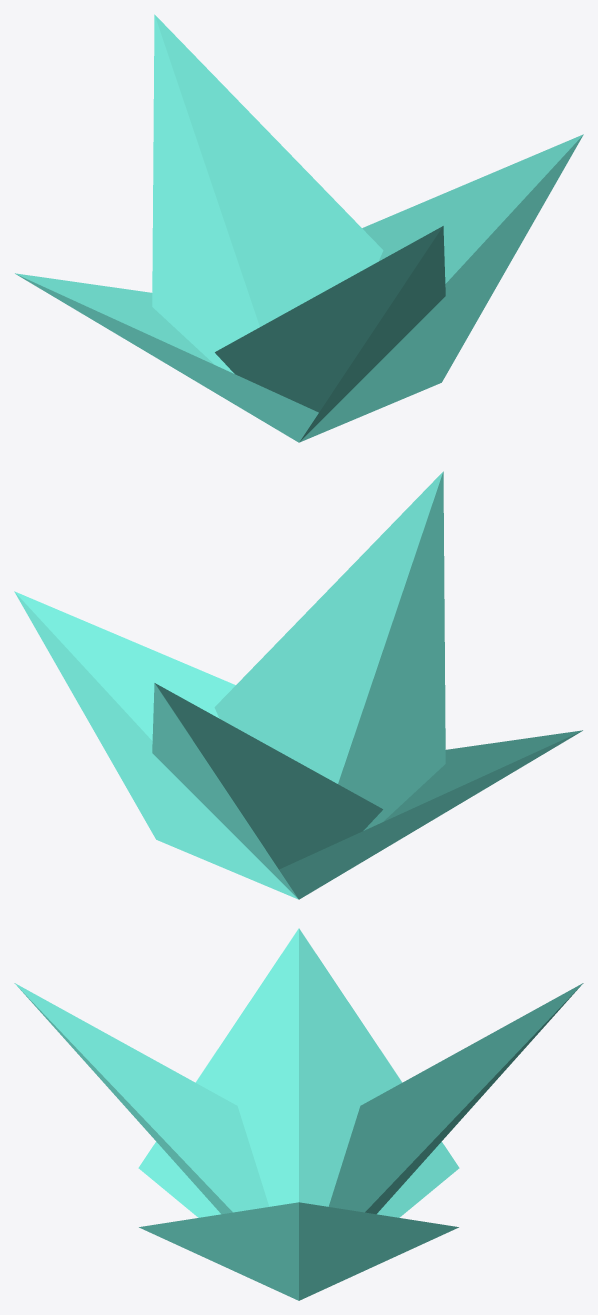
Rendered from plant_bushSmall.glb.
3 views of the same model, one above another, from view 1: azimuth 30°, elevation 25°; view 2: azimuth 150°, elevation 25°; view 3: azimuth 270°, elevation 25° (orthographic).
Parts seen in each view (by area): view 1: plant_bushSmall; view 2: plant_bushSmall; view 3: plant_bushSmall.
Boxes of the visible parts, x1,y1,x2,y2 form: plant_bushSmall: (15, 14, 583, 442); plant_bushSmall: (14, 471, 582, 899); plant_bushSmall: (14, 928, 583, 1300).
Bounding box in the file's own units: 0.383 × 0.2073 × 0.3363.
